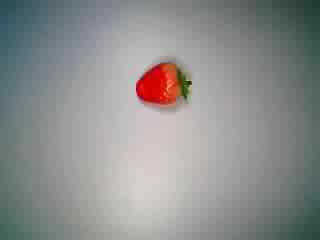strawberry: (133, 57, 195, 121)
